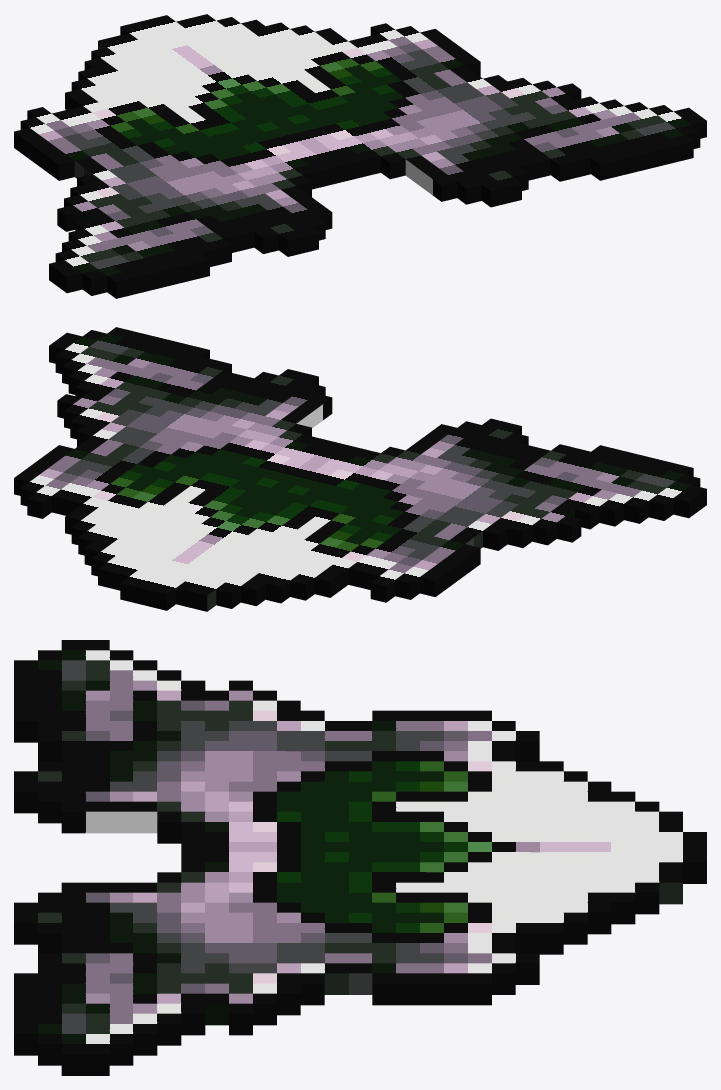
File: EnemyMinion.fbx
3 renders of one model, top to bottom at view 1: azimuth 30°, elevation 25°; view 2: azimuth 150°, elevation 25°; view 3: azimuth 270°, elevation 25°, orthographic. The views are drawn at different scales.
Parts seen in each view (by area): view 1: Crisp Sculpture; view 2: Crisp Sculpture; view 3: Crisp Sculpture.
Part boxes in pixels (x1=…): Crisp Sculpture: x1=14, y1=14, x2=706, y2=298; Crisp Sculpture: x1=14, y1=327, x2=706, y2=611; Crisp Sculpture: x1=14, y1=640, x2=706, y2=1075.
Bounding box in the file's own units: 87.23 × 2.13 × 61.7.
Materials: 1 (1 with a texture image).
